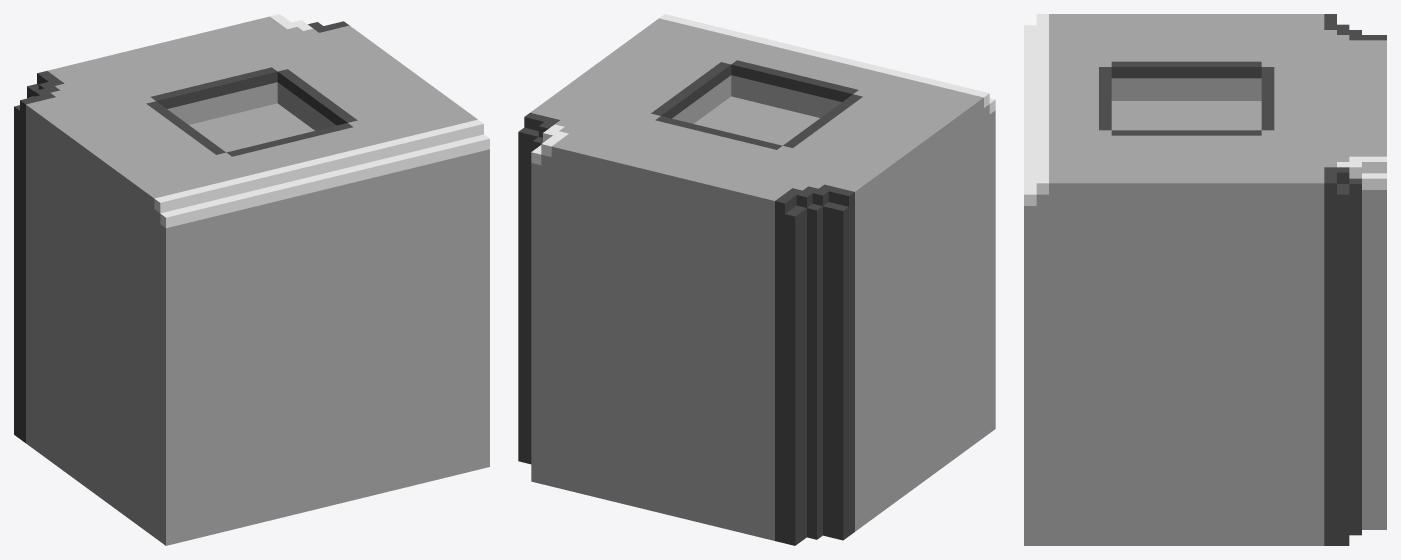
The model's file is 3JointS.obj.
3 renders of one model, left to right at view 1: azimuth 30°, elevation 25°; view 2: azimuth 150°, elevation 25°; view 3: azimuth 270°, elevation 25°, orthographic. The views are drawn at different scales.
Size of the model in its own units: 32 by 32 by 29.
Materials: 1 (1 with a texture image).
